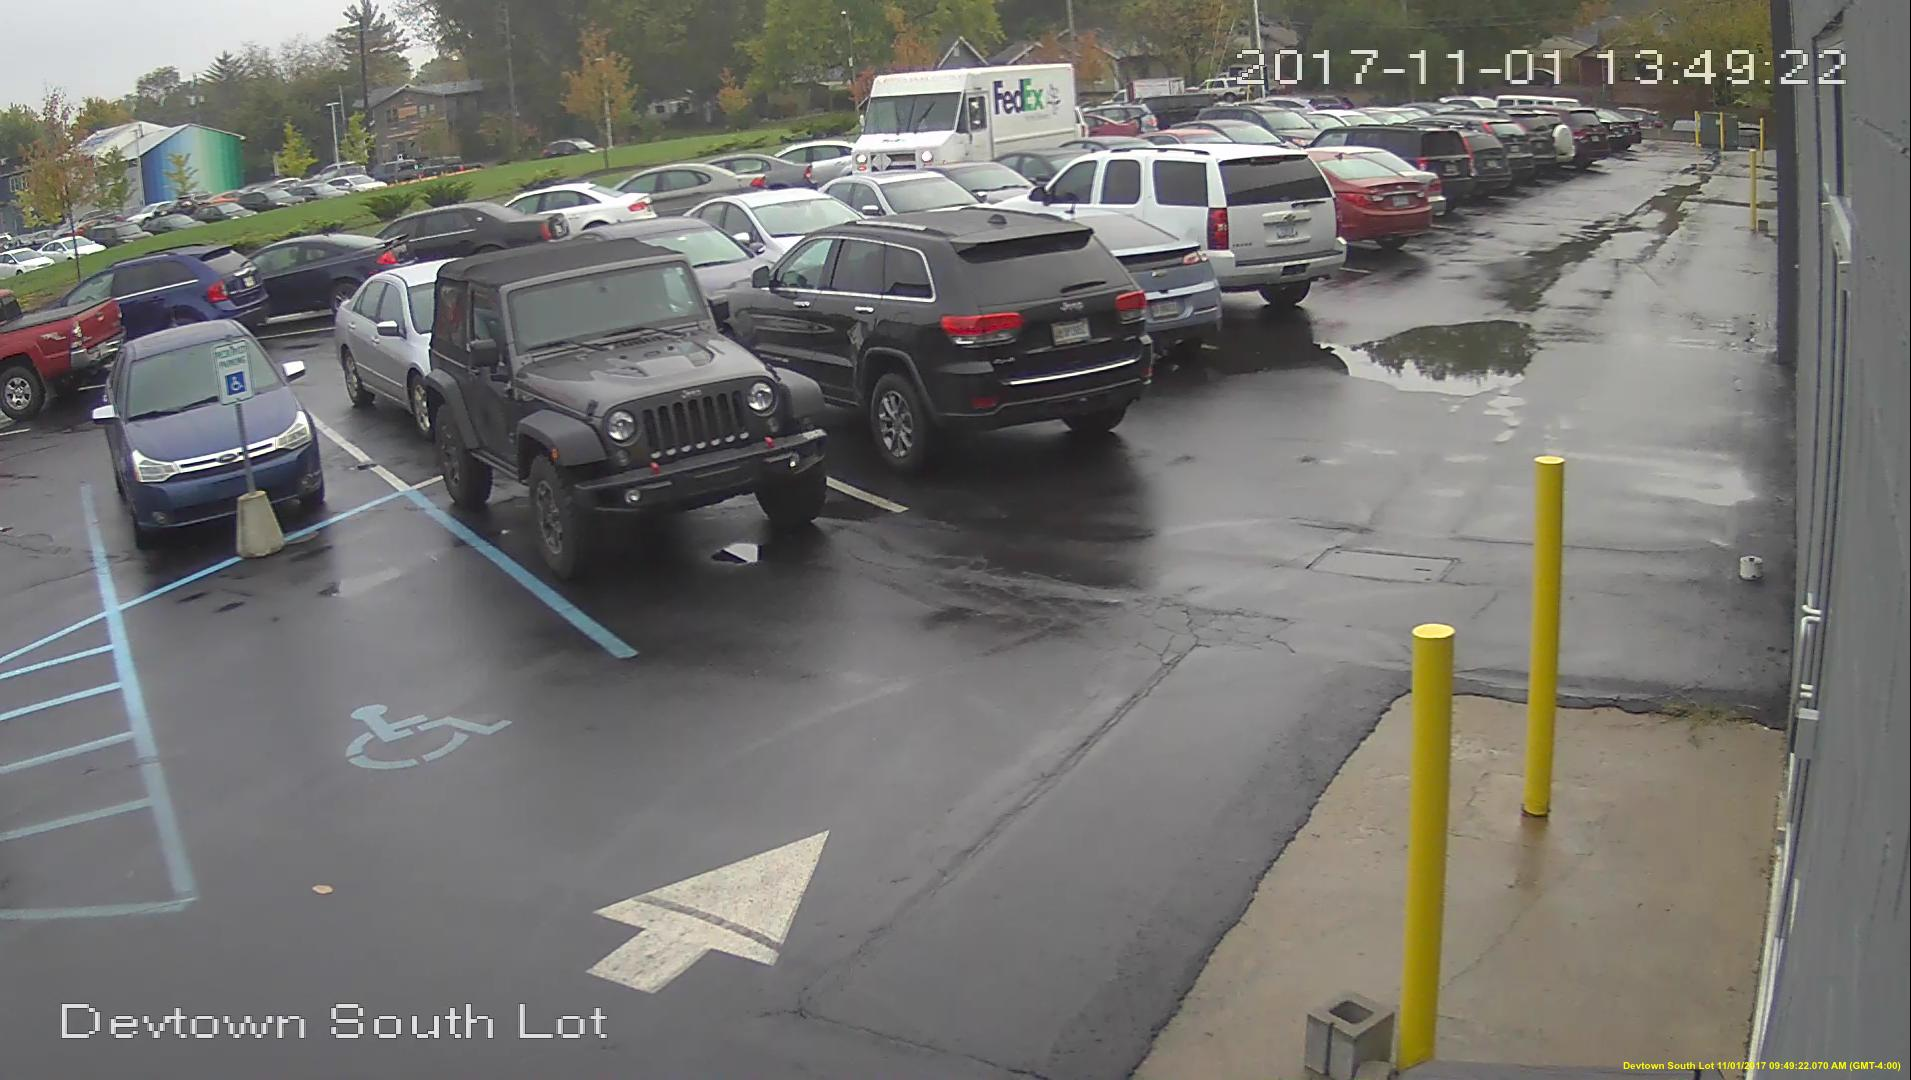fedex_truck: (860, 68, 1078, 173)
